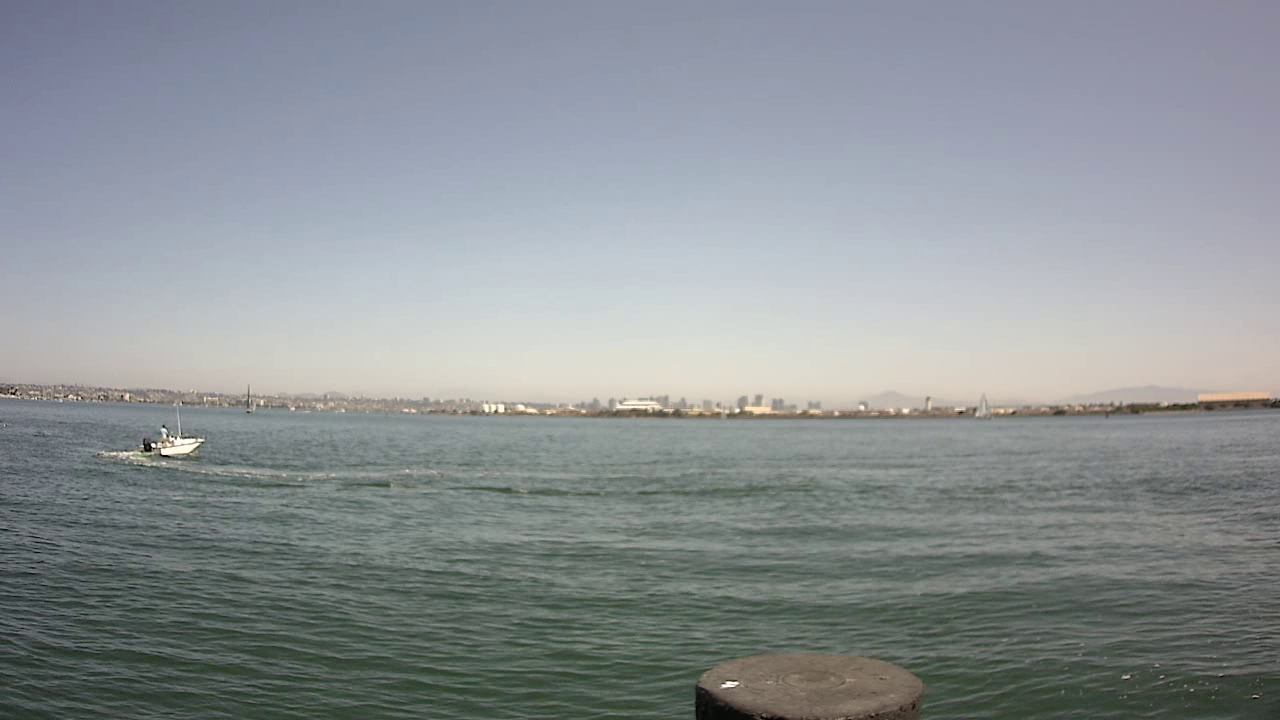target: (121, 415, 214, 469)
